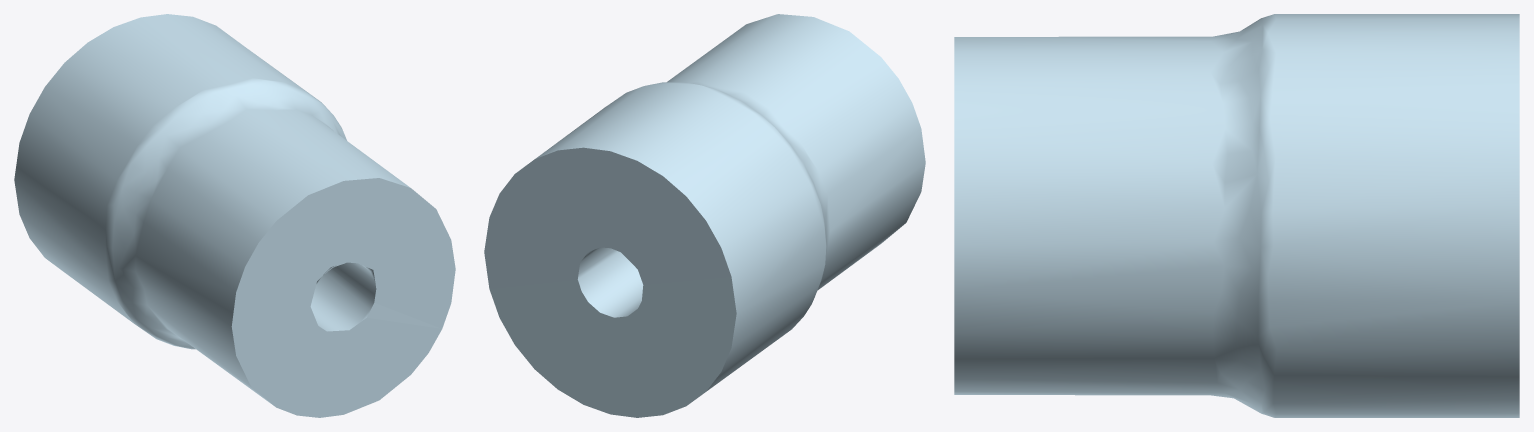
The model's file is Tornado.fbx.
3 views of the same model, side by side, from view 1: azimuth 30°, elevation 25°; view 2: azimuth 150°, elevation 25°; view 3: azimuth 270°, elevation 25° (orthographic). The views are drawn at different scales.
Visible parts, largest first — view 1: Part 1; view 2: Part 1; view 3: Part 1.
Part boxes in pixels (x1,y1,x2,y2): Part 1: [14, 14, 455, 417]; Part 1: [484, 14, 925, 417]; Part 1: [954, 14, 1519, 417].
Size of the model in its own units: 5.74 by 5.71 by 8.
